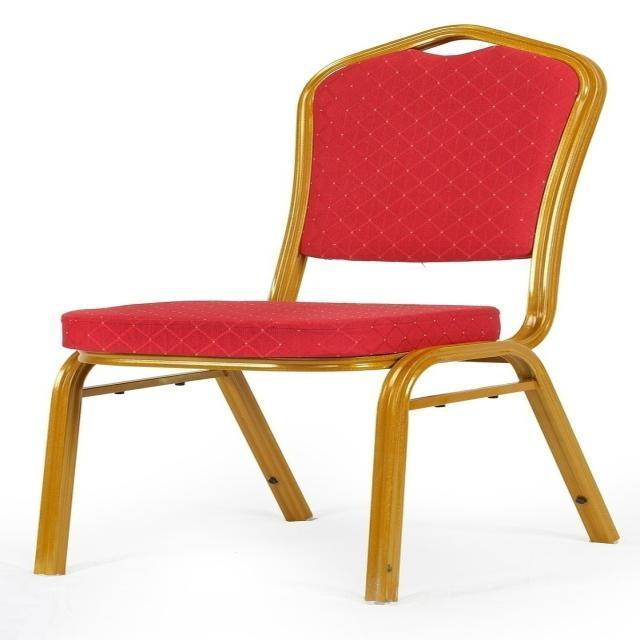chair: (29, 18, 630, 604)
